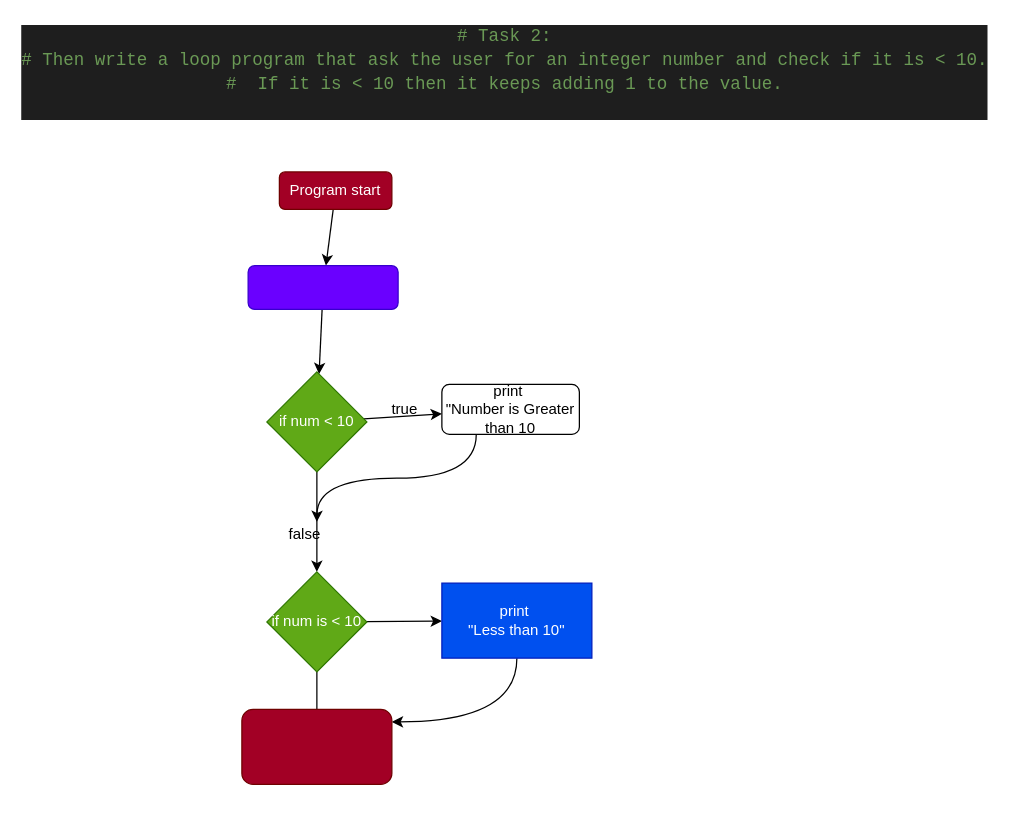
This 1009x816 diagram has some shape labels left out. Here are the shapes that lost their labels. From the top down, the centre of each, then its label:
[322,286]: Ask user for a number
[316,746]: End
